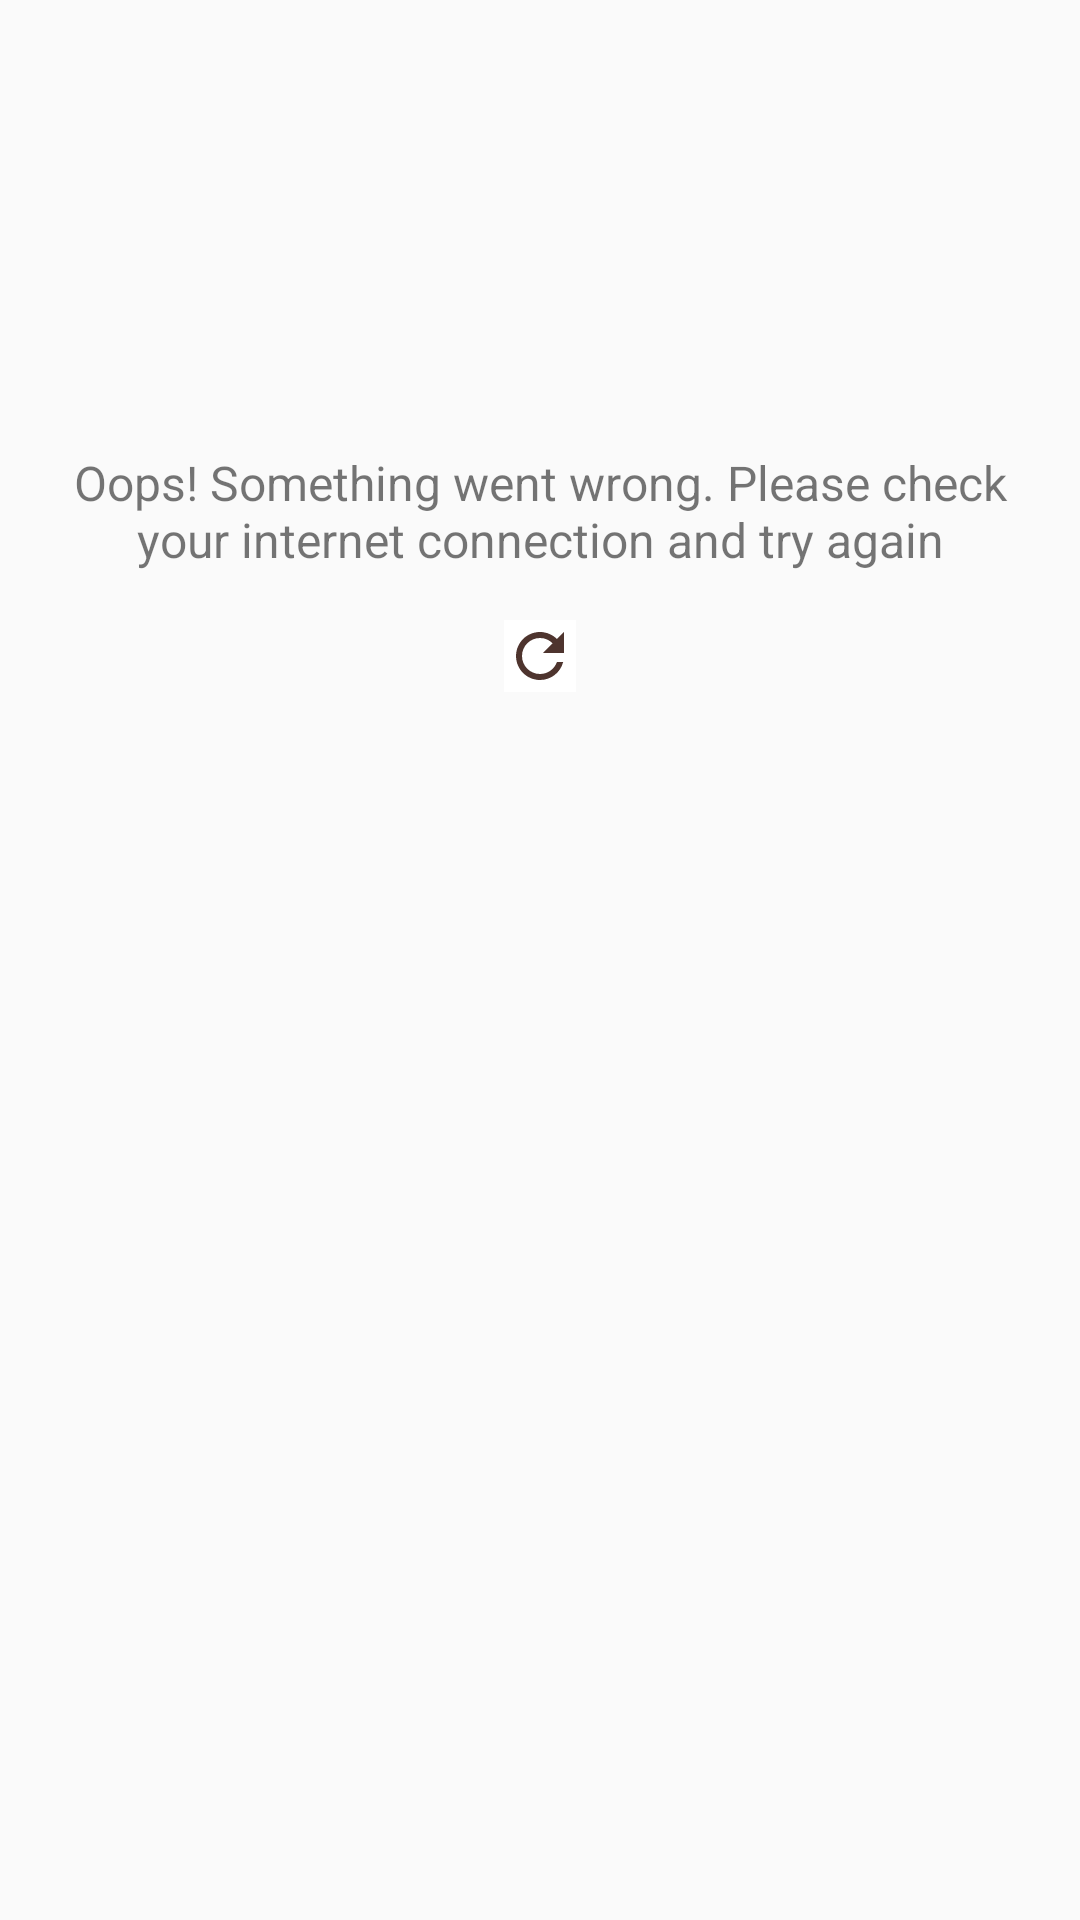

Locate icon controls on the screen. Image size 1080 × 1920, boxes as (x1,y1,x2,y2).
refresh: (516,632,564,680)
